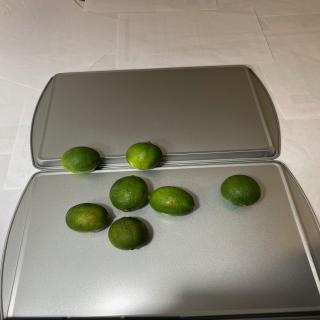Lemon: (109, 175, 148, 212), (147, 186, 195, 216), (220, 174, 261, 207), (65, 203, 110, 233), (108, 217, 148, 250), (60, 146, 101, 174), (126, 141, 162, 170)
